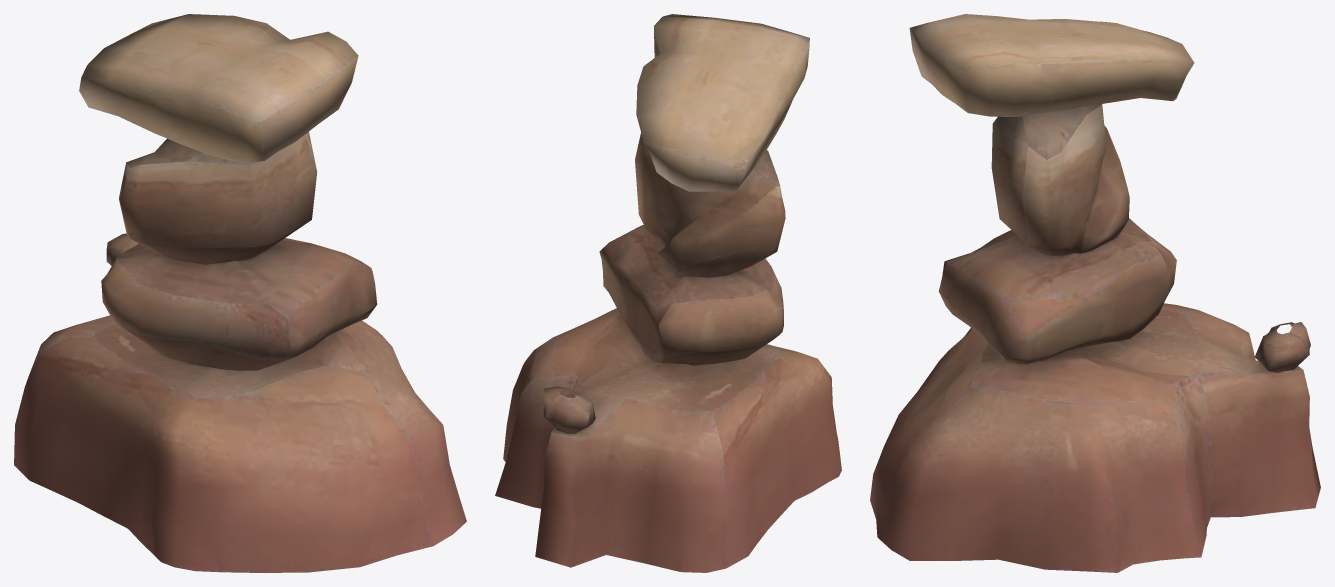
The picture shows the model from 3 angles, left to right: view 1: azimuth 30°, elevation 25°; view 2: azimuth 150°, elevation 25°; view 3: azimuth 270°, elevation 25°; orthographic projection. The views are drawn at different scales.
Visible parts, largest first — view 1: body0_model0_lod0_mesh0; view 2: body0_model0_lod0_mesh0; view 3: body0_model0_lod0_mesh0.
Part boxes in pixels (left/top/right/bottom): body0_model0_lod0_mesh0: left=14, top=14, right=466, bottom=572; body0_model0_lod0_mesh0: left=495, top=14, right=841, bottom=572; body0_model0_lod0_mesh0: left=870, top=14, right=1320, bottom=572.
Bounding box in the file's own units: 48.48 × 69.3 × 61.86.
Materials: 1 (1 with a texture image).
